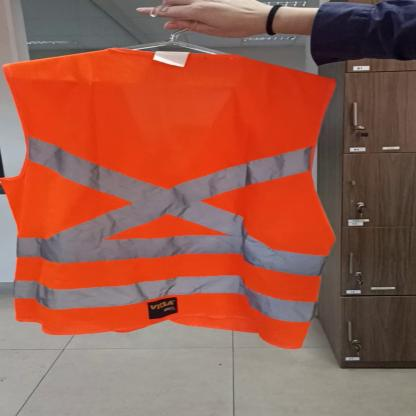colete: (0, 42, 342, 350)
